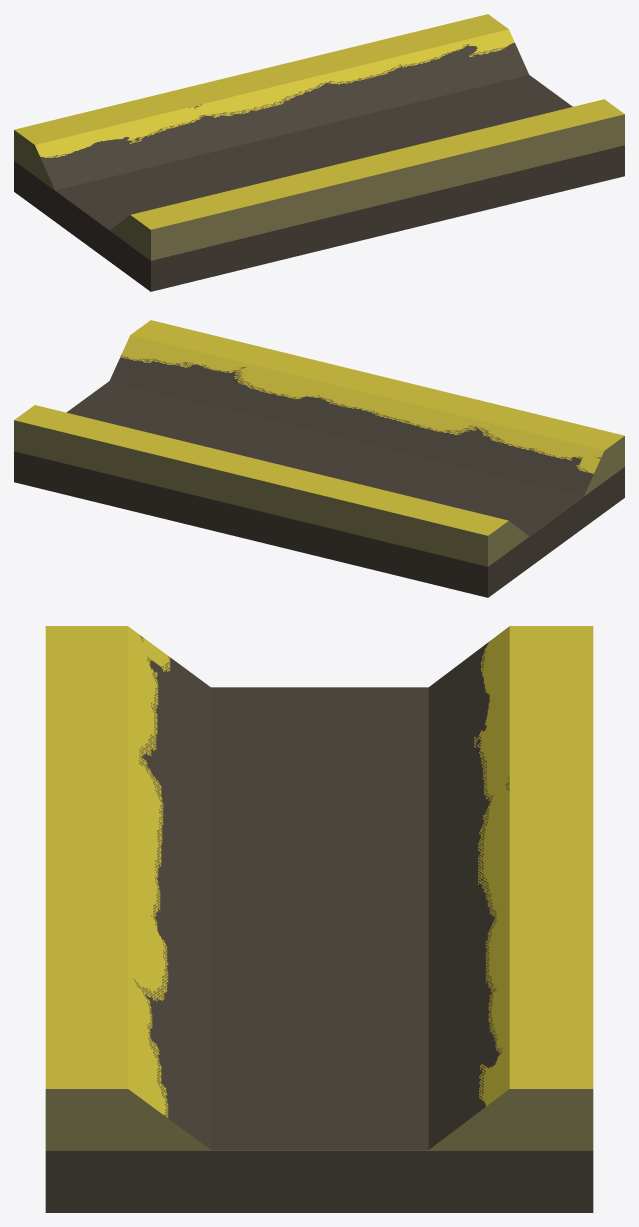
Rendered from tile2_1 rift line.fbx.
3 renders of one model, top to bottom at view 1: azimuth 30°, elevation 25°; view 2: azimuth 150°, elevation 25°; view 3: azimuth 270°, elevation 25°, orthographic. The views are drawn at different scales.
Visible parts, largest first — view 1: Cube.002; view 2: Cube.002; view 3: Cube.002.
Boxes of the visible parts, x1=… form: Cube.002: x1=14, y1=14, x2=624, y2=291; Cube.002: x1=14, y1=320, x2=624, y2=597; Cube.002: x1=45, y1=626, x2=593, y2=1212.
Size of the model in its own units: 400 by 50 by 200.
Materials: 1 (1 with a texture image).
